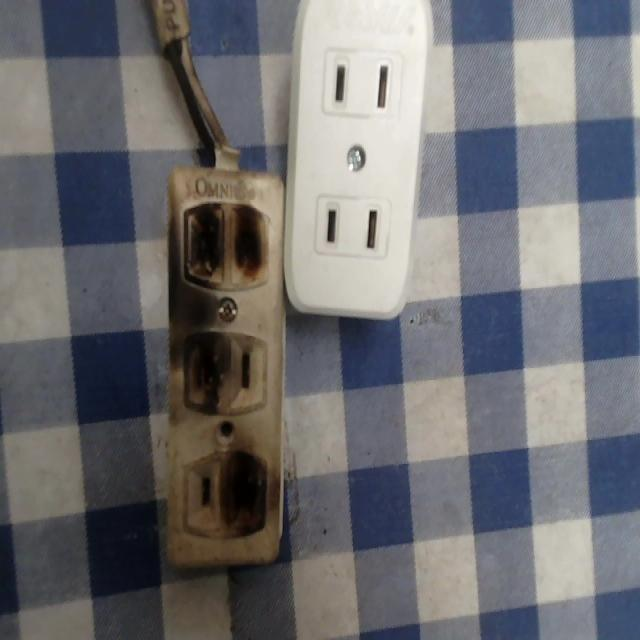-: (179, 197, 271, 291), (176, 327, 233, 420), (221, 443, 271, 536)
